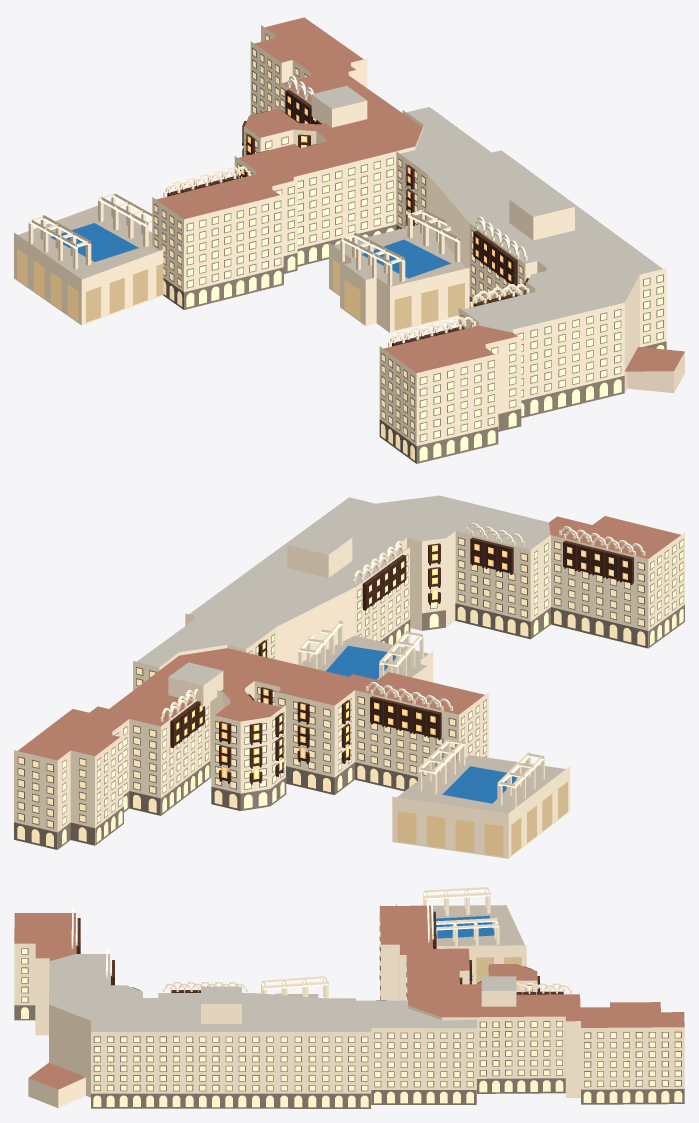
Rendered from serena_hotel.glb.
3 renders of one model, top to bottom at view 1: azimuth 30°, elevation 25°; view 2: azimuth 150°, elevation 25°; view 3: azimuth 270°, elevation 25°, orthographic. The views are drawn at different scales.
Parts seen in each view (by area): view 1: m_render_white, m_roof_pale, m_roof_terrace, m_window_glass, m_window_surround, m_deck_tile, m_colonnade_glass, m_stone_base, m_screen_timber, m_pool_blue; view 2: m_render_white, m_roof_pale, m_window_glass, m_roof_terrace, m_window_surround, m_screen_timber, m_stone_base, m_deck_tile, m_colonnade_glass, m_pool_blue, m_screen_inset; view 3: m_render_white, m_roof_pale, m_roof_terrace, m_window_glass, m_window_surround, m_stone_base, m_deck_tile, m_screen_timber, m_pool_blue, m_colonnade_glass.
Boxes of the visible parts, x1,y1,x2,y2 form: m_render_white: (14,25,684,445); m_roof_pale: (312,85,662,332); m_roof_terrace: (156,17,684,372); m_window_glass: (154,35,664,460); m_window_surround: (154,34,663,442); m_deck_tile: (18,203,466,286); m_colonnade_glass: (17,248,464,330); m_stone_base: (163,114,666,463); m_screen_timber: (167,89,528,346); m_pool_blue: (50,223,450,278); m_render_white: (14,523,684,858); m_roof_pale: (137,495,550,685); m_window_glass: (17,538,683,847); m_roof_terrace: (18,516,680,760); m_window_surround: (17,537,683,828); m_screen_timber: (170,537,633,782); m_stone_base: (14,603,684,849); m_deck_tile: (297,635,565,813); m_colonnade_glass: (397,680,567,856); m_pool_blue: (326,646,516,803); m_screen_inset: (176,543,627,779); m_render_white: (14,887,684,1108); m_roof_pale: (14,927,516,1031); m_roof_terrace: (14,905,684,1089); m_window_glass: (21,911,682,1107); m_window_surround: (21,916,681,1091); m_stone_base: (14,975,684,1108); m_deck_tile: (275,905,524,1000); m_screen_timber: (76,911,563,1000); m_pool_blue: (436,915,494,938); m_colonnade_glass: (476,957,521,983).
Size of the model in its own units: 127 by 33.01 by 214.
Materials: 12 (1 with a texture image).
